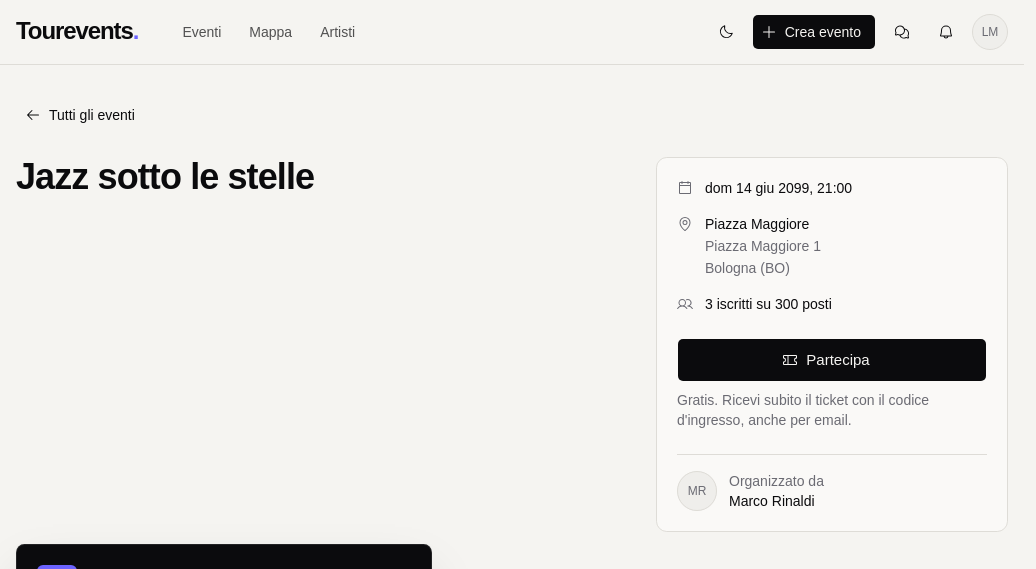
Test: JoinButton › non iscritto: "Partecipa" emette il ticket e mostra il codice
The image size is (1036, 569).
Click the button "Partecipa": click(832, 360) [677,338,987,382]
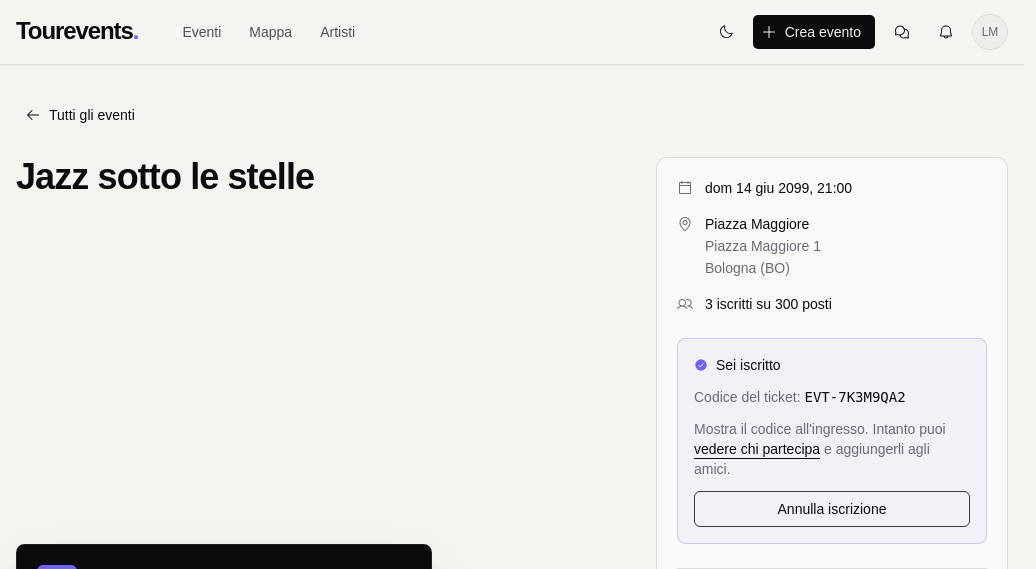
Expected: the text "Sei iscritto" is shown, [694,357,781,373]
Expected: the text "EVT-7K3M9QA2" is shown, [804,389,906,405]
Expected: the button "Annulla iscrizione" is shown, [694,491,970,527]
